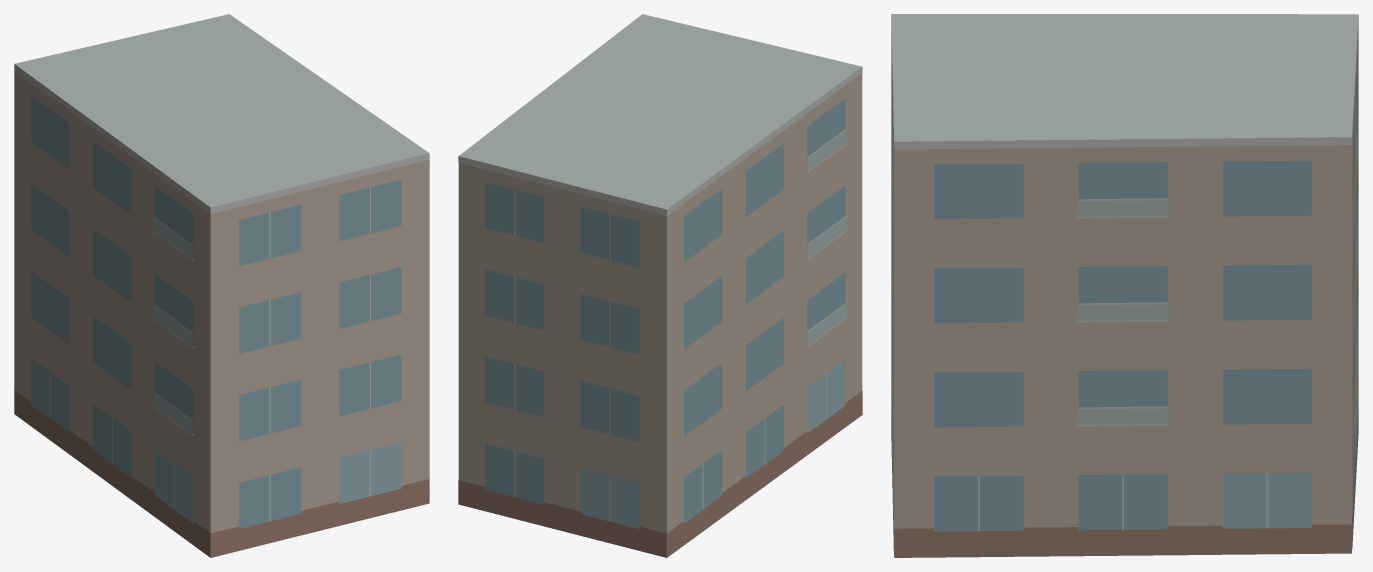
The model's file is survey-upis-32632401.glb.
3 views of the same model, side by side, from view 1: azimuth 30°, elevation 25°; view 2: azimuth 150°, elevation 25°; view 3: azimuth 270°, elevation 25° (orthographic). The views are drawn at different scales.
Visible parts, largest first — view 1: survey-upis-32632401.tmp; view 2: survey-upis-32632401.tmp; view 3: survey-upis-32632401.tmp.
Part boxes in pixels (bbox=[...]): survey-upis-32632401.tmp: bbox=[14, 14, 429, 557]; survey-upis-32632401.tmp: bbox=[458, 14, 862, 557]; survey-upis-32632401.tmp: bbox=[891, 14, 1358, 557].
Size of the model in its own units: 8.52 by 12.9 by 13.13.
